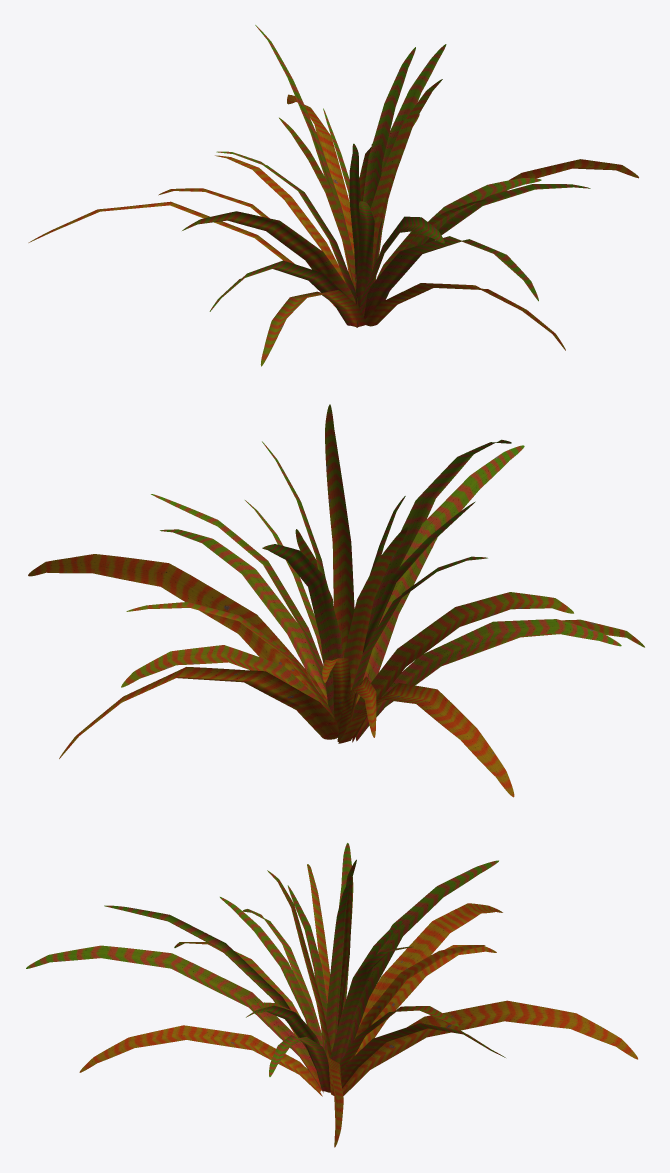
The model's file is PLant_10_1_L1.fbx.
3 renders of one model, top to bottom at view 1: azimuth 30°, elevation 25°; view 2: azimuth 150°, elevation 25°; view 3: azimuth 270°, elevation 25°, orthographic. The views are drawn at different scales.
Visible parts, largest first — view 1: polySurface2; view 2: polySurface2; view 3: polySurface2.
Part boxes in pixels (box(x1,y1,x2,y2)): polySurface2: box(28, 25, 638, 366); polySurface2: box(28, 404, 644, 797); polySurface2: box(26, 843, 637, 1147).
Bounding box in the file's own units: 330 × 155 × 355.
